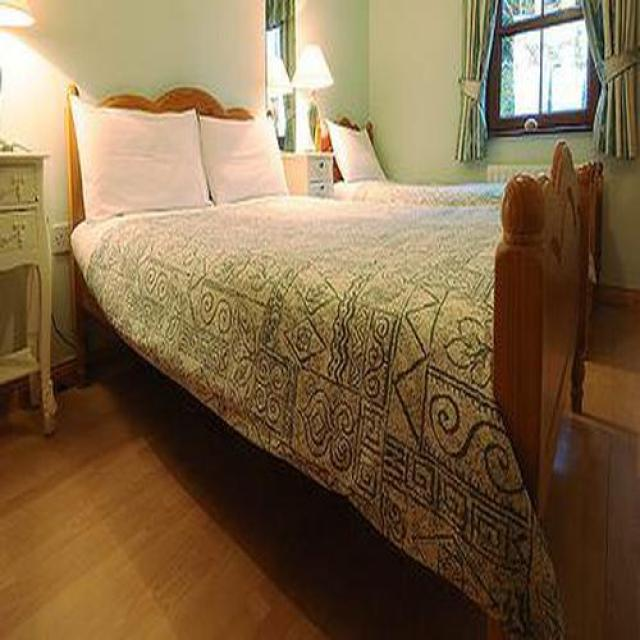bed: (69, 92, 600, 640)
